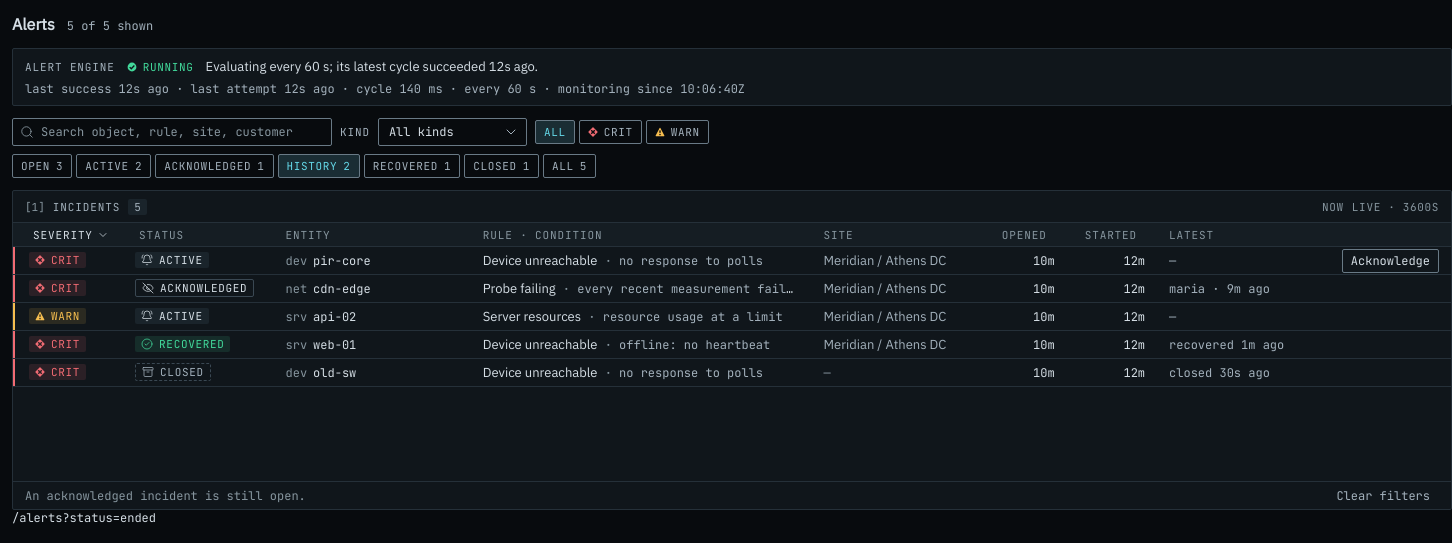
Test: the filters › go back to the open view when the chosen chip is pressed again, and to all from the open chip
Click the button "HISTORY 2" at (319, 166), box [278,154,360,178]
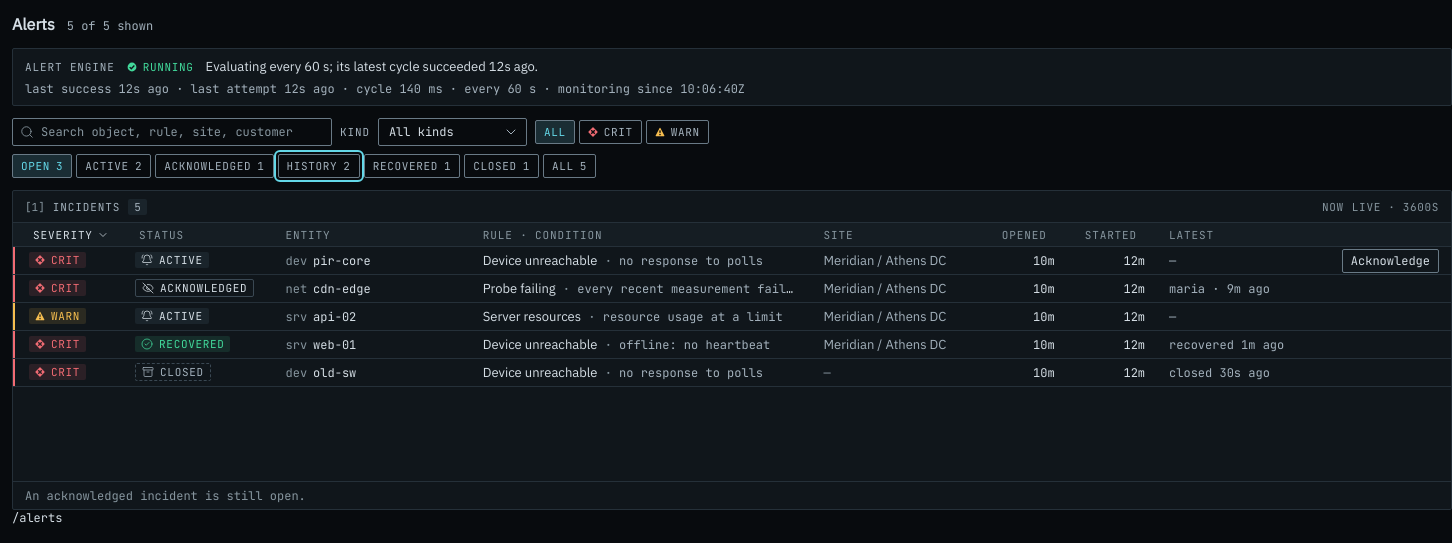
Expected: the text with test id "location" does not show "status=", [12,510,62,526]
Click the button "OPEN 3" at (42, 166), box [12,154,72,178]
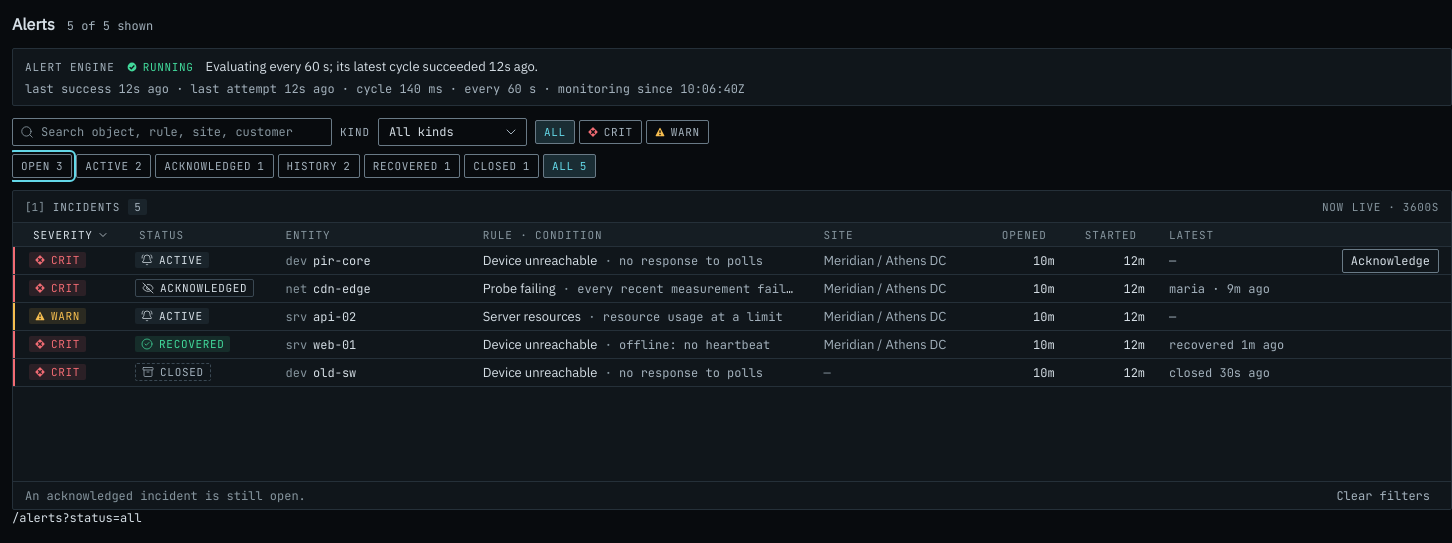
Result: the text with test id "location" shows "status=all" at [12,510,142,526]
